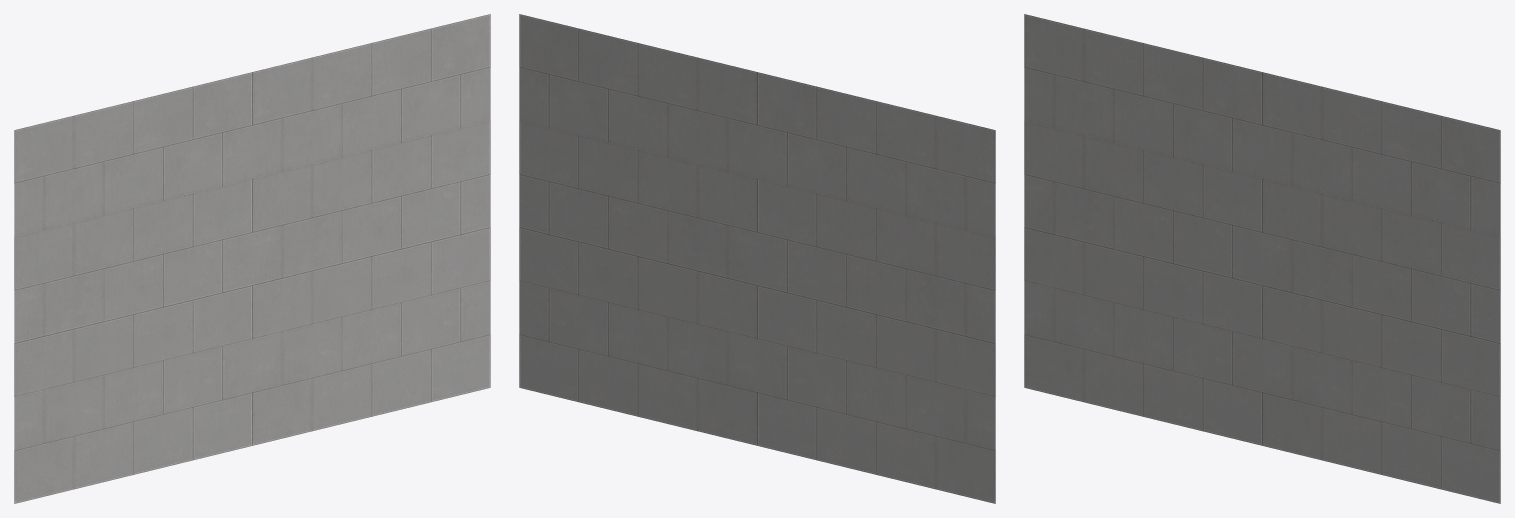
File: Bakery_Wall_01.fbx
The picture shows the model from 3 angles, left to right: view 1: azimuth 30°, elevation 25°; view 2: azimuth 150°, elevation 25°; view 3: azimuth 330°, elevation 25°; orthographic projection.
Visible parts, largest first — view 1: Bakery_Wall_01; view 2: Bakery_Wall_01; view 3: Bakery_Wall_01.
Part boxes in pixels (x1=…): Bakery_Wall_01: x1=14, y1=14, x2=490, y2=503; Bakery_Wall_01: x1=519, y1=14, x2=995, y2=503; Bakery_Wall_01: x1=1024, y1=14, x2=1500, y2=503.
Bounding box in the file's own units: 400 × 300 × 2.38e-05.
